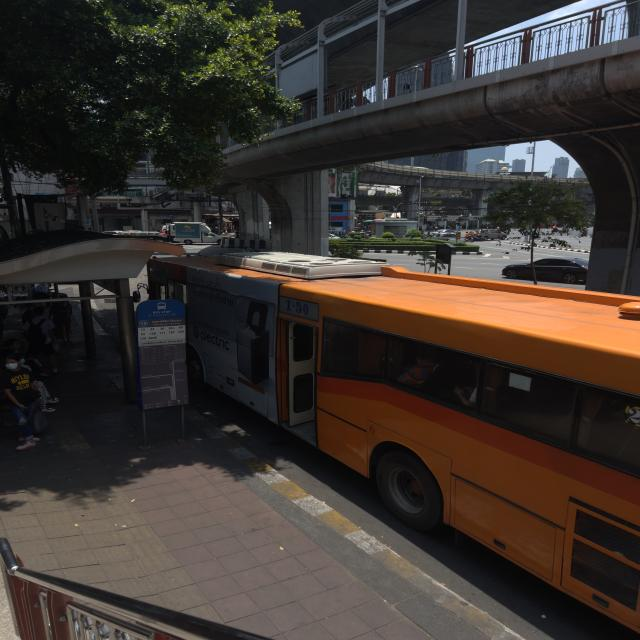BMTA-bus: (146, 255, 640, 636)
